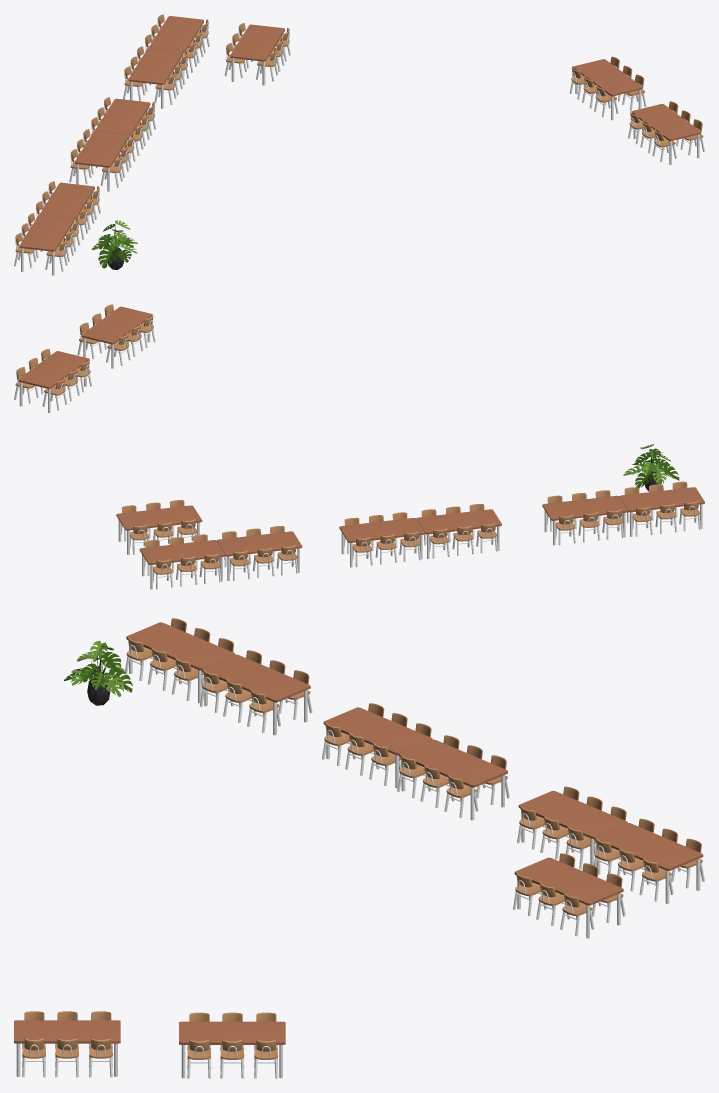
Rendered from d-roomcomp-d-cafeteria-in.glb.
3 views of the same model, one above another, from view 1: azimuth 30°, elevation 25°; view 2: azimuth 150°, elevation 25°; view 3: azimuth 270°, elevation 25° (orthographic). The views are drawn at different scales.
Visible parts, largest first — view 1: table.032, table.031, table.030, table.029, table.027, table.025, table.024, table.026, table.028, bigLeavesPlant.002; view 2: table.028, table.026, table.024, table.027, table.029, table.025, table.031, table.032, table.030, bigLeavesPlant.002; view 3: table.026, table.030, table.028, table.024, table.031, table.032, table.027, table.029, table.025, bigLeavesPlant.002.
Part boxes in pixels (x1,y1,x2,y2): table.032: (628, 101, 704, 164); table.031: (569, 56, 646, 120); table.030: (224, 23, 290, 85); table.029: (14, 213, 80, 275); table.027: (69, 129, 135, 191); table.025: (123, 46, 189, 108); table.024: (145, 14, 209, 76); table.026: (91, 97, 156, 158); table.028: (36, 181, 100, 242); bigLeavesPlant.002: (91, 220, 137, 269); table.028: (542, 490, 627, 545); table.026: (339, 512, 424, 567); table.024: (139, 534, 225, 589); table.027: (416, 504, 501, 558); table.029: (619, 481, 704, 536); table.025: (216, 526, 302, 580); table.031: (14, 349, 91, 413); table.032: (77, 304, 155, 368); table.030: (116, 500, 202, 554); bigLeavesPlant.002: (623, 444, 679, 491); table.026: (397, 735, 509, 820); table.030: (513, 853, 625, 938); table.028: (200, 650, 312, 735); table.024: (594, 818, 704, 903); table.031: (179, 1012, 285, 1078); table.032: (14, 1011, 120, 1077); table.027: (322, 703, 432, 788); table.029: (124, 618, 234, 703); table.025: (517, 786, 627, 869); bigLeavesPlant.002: (64, 640, 132, 705).
Bounding box in the file's own units: 25.95 × 1.88 × 17.8.
Materials: 1 (1 with a texture image).
